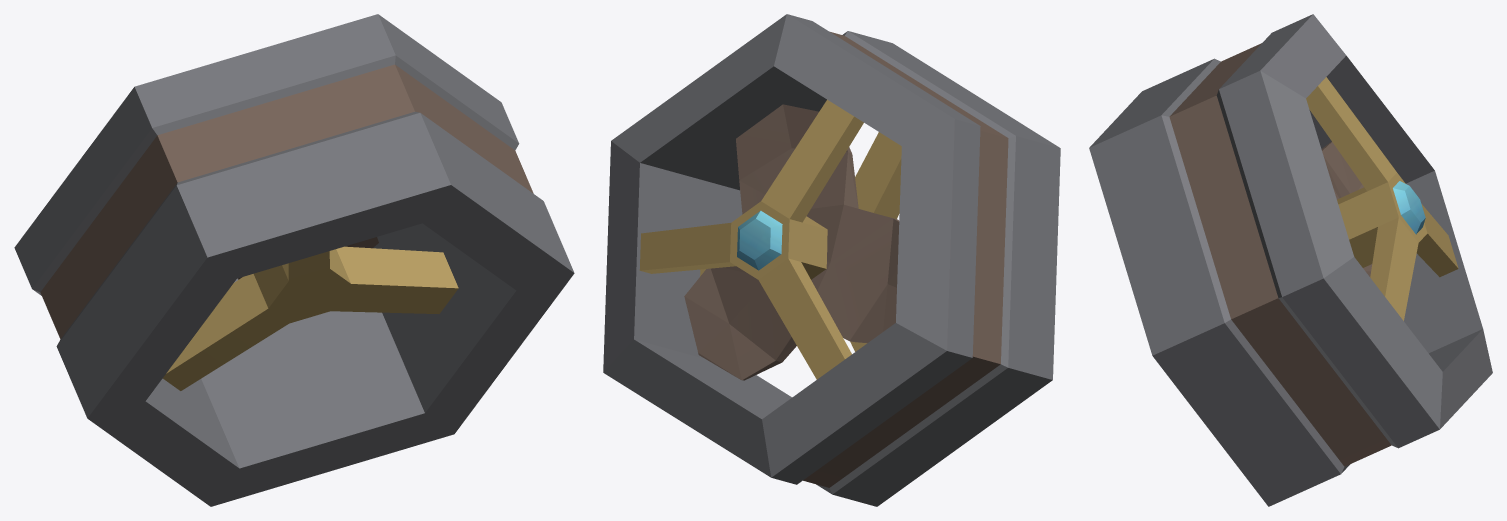
File: trinketHorn2.fbx
3 renders of one model, left to right at view 1: azimuth 30°, elevation 25°; view 2: azimuth 150°, elevation 25°; view 3: azimuth 270°, elevation 25°, orthographic. The views are drawn at different scales.
Visible parts, largest first — view 1: trinketHorn2; view 2: trinketHorn2; view 3: trinketHorn2.
Boxes of the visible parts, left/top/right/bottom form: trinketHorn2: left=14, top=14, right=574, bottom=506; trinketHorn2: left=603, top=14, right=1060, bottom=506; trinketHorn2: left=1089, top=14, right=1492, bottom=506.
Size of the model in its own units: 1.05 by 1.08 by 0.9033.
1 material, 1 textured.
